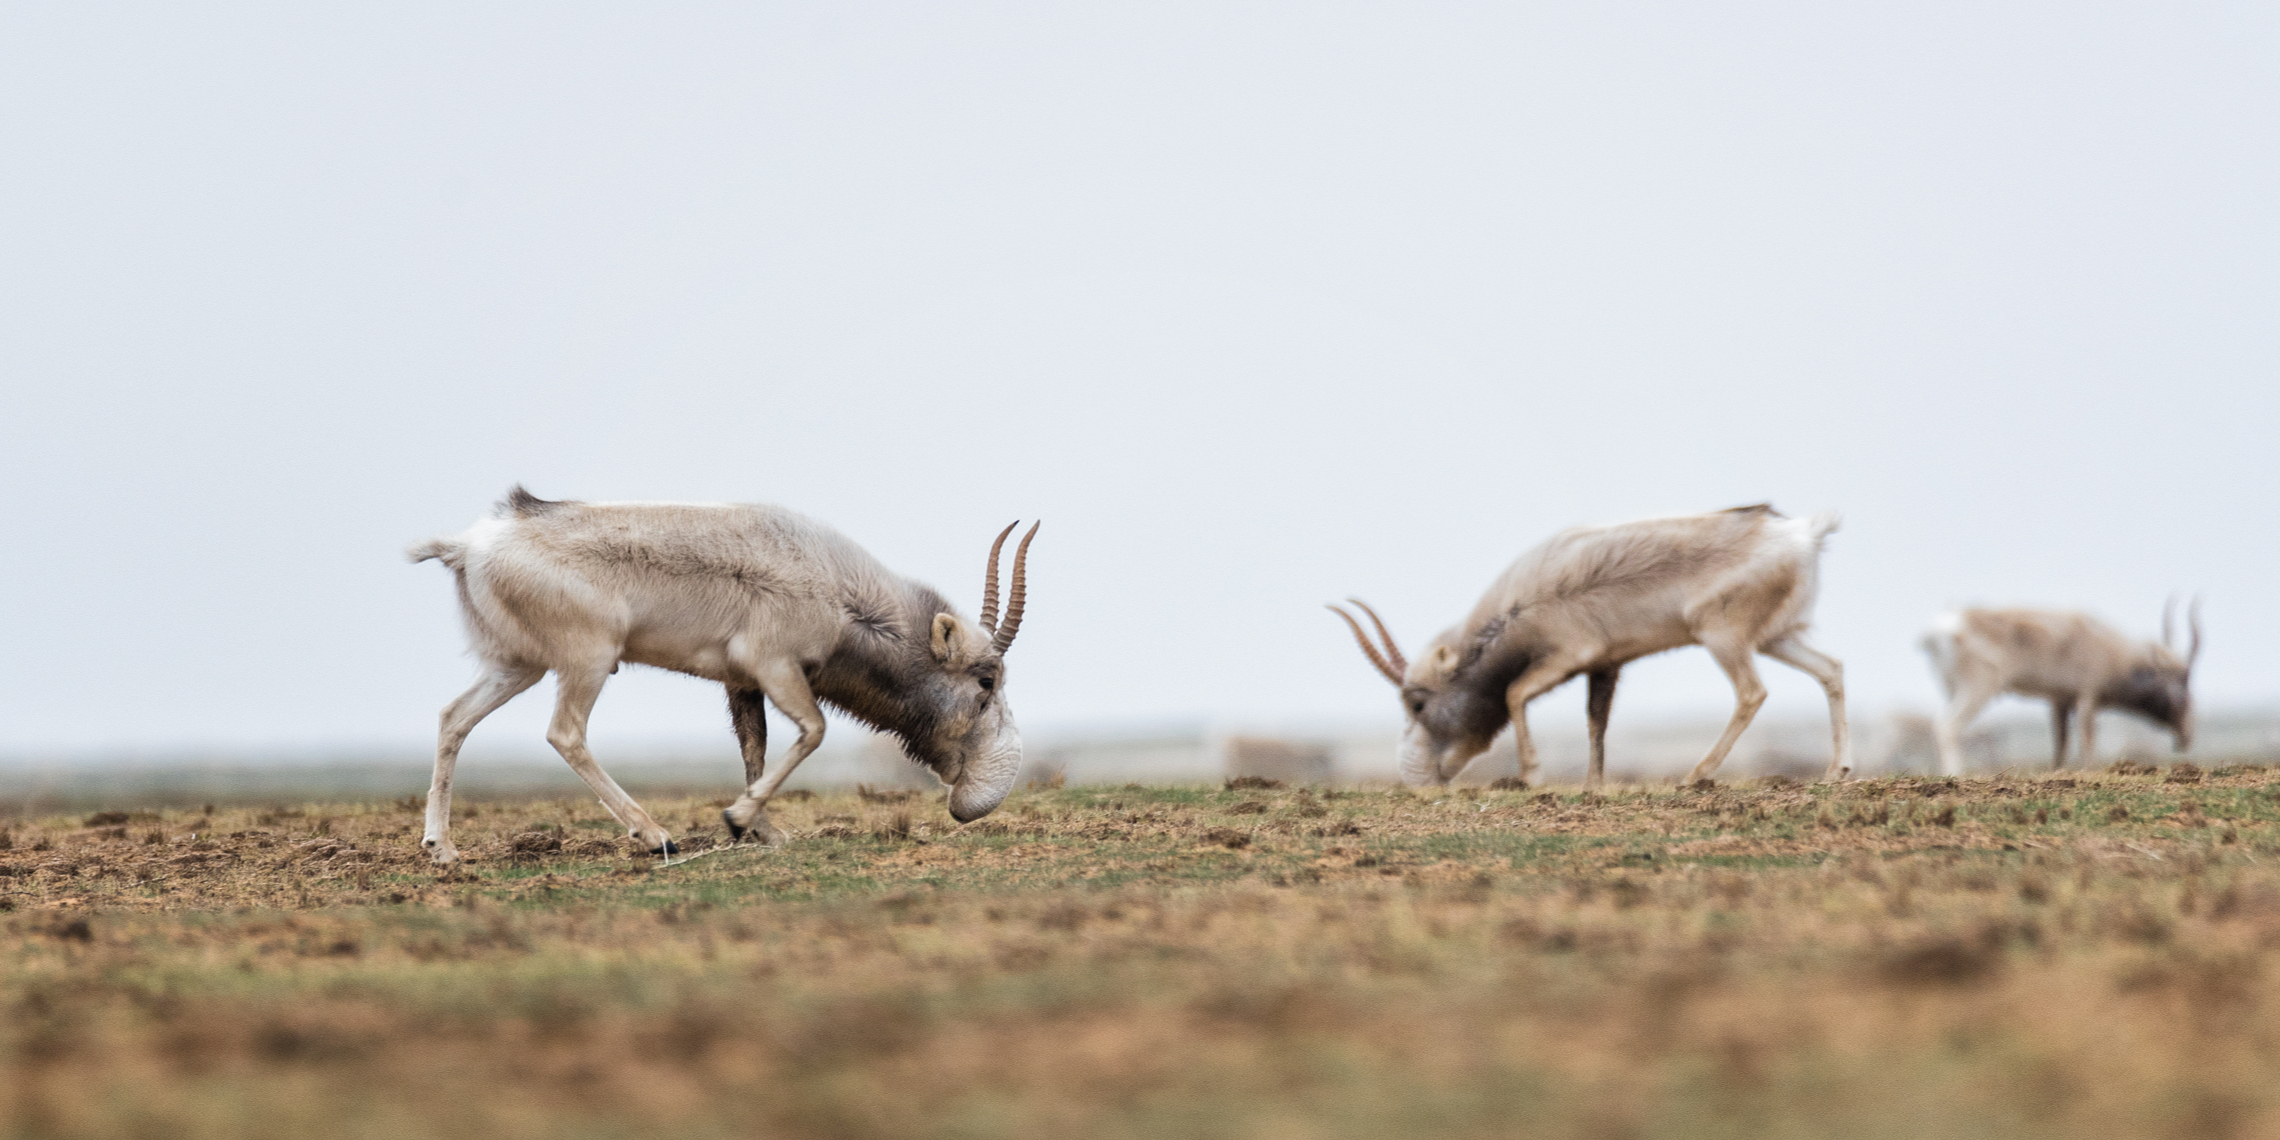saiga: (381, 449, 1045, 840), (1269, 422, 1882, 824)
